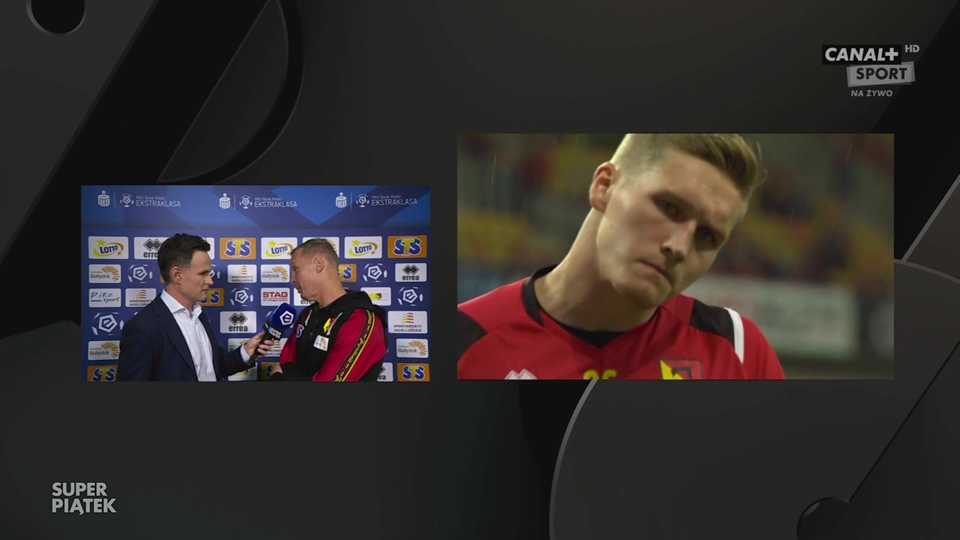pko: (96, 188, 111, 208), (333, 192, 348, 210), (216, 192, 231, 209)
